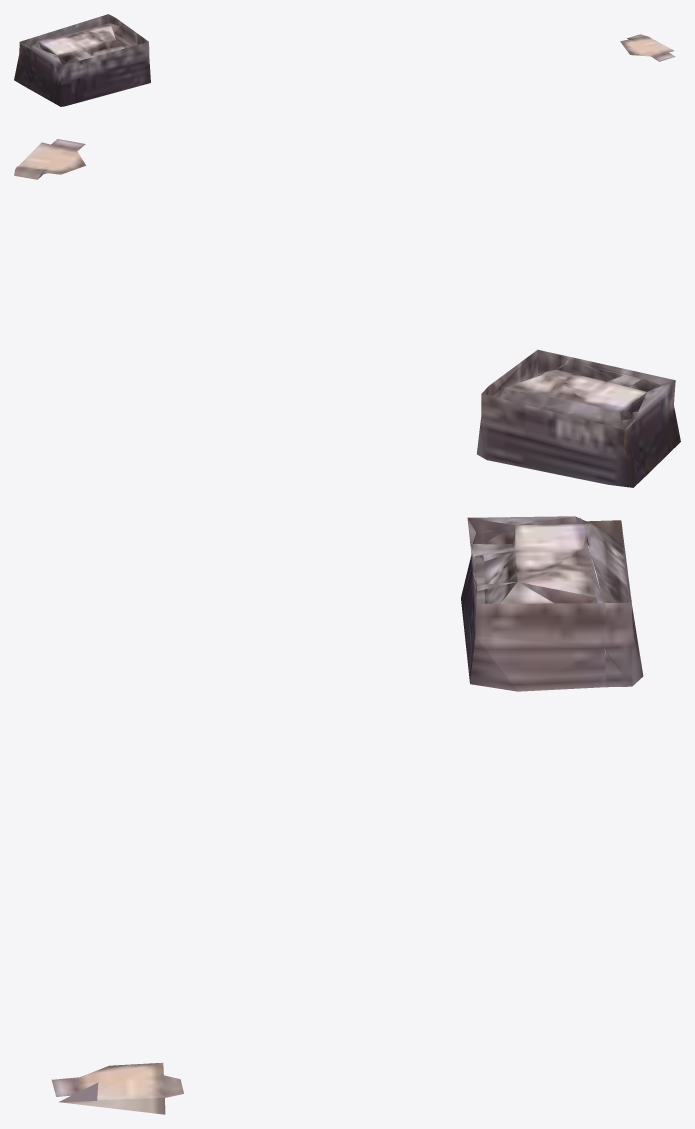
The picture shows the model from 3 angles, top to bottom: view 1: azimuth 30°, elevation 25°; view 2: azimuth 150°, elevation 25°; view 3: azimuth 270°, elevation 25°; orthographic projection. The views are drawn at different scales.
Visible parts, largest first — view 1: Mesh_0; view 2: Mesh_0; view 3: Mesh_0.
Boxes of the visible parts, left/top/right/bottom form: Mesh_0: left=14, top=14, right=675, bottom=106; Mesh_0: left=14, top=139, right=680, bottom=487; Mesh_0: left=51, top=516, right=643, bottom=1114.
Bounding box in the file's own units: 224 × 20.91 × 108.
Materials: 1 (1 with a texture image).
